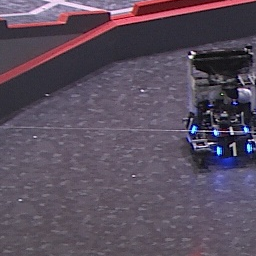Blue: (216, 141, 253, 158), (212, 127, 249, 137), (186, 112, 198, 135)
Robot: (180, 44, 256, 170)
